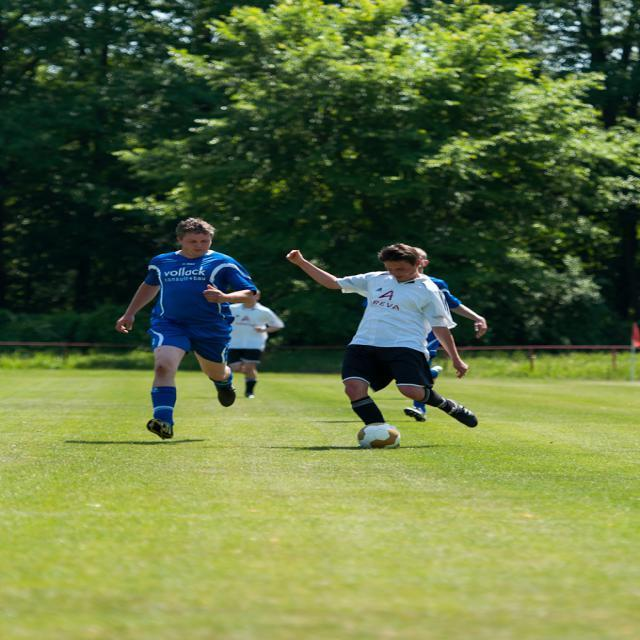football: (354, 418, 414, 463)
